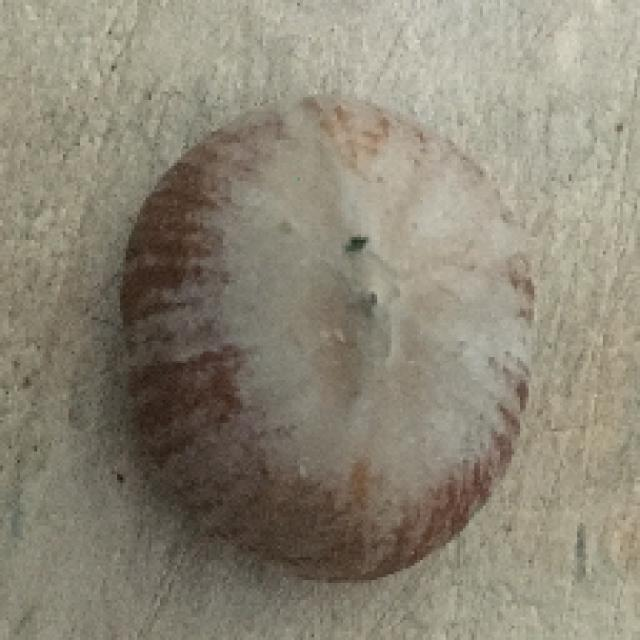qualityHazelnut: (108, 92, 542, 584)
